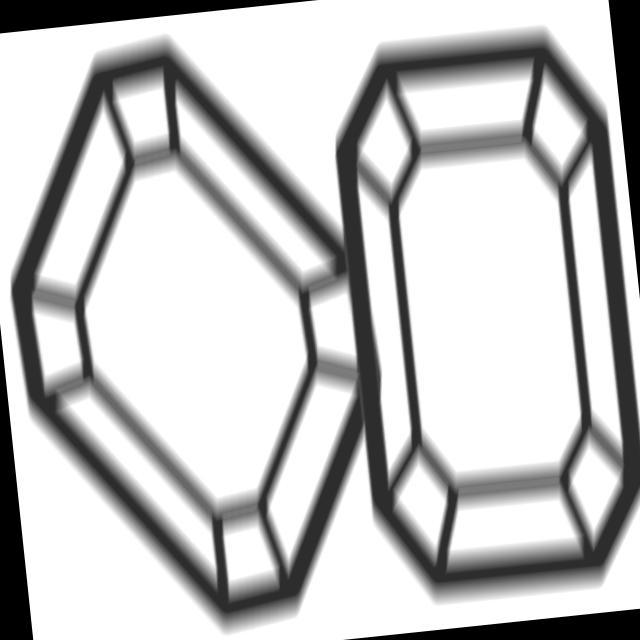emerald: (1, 8, 409, 640), (308, 14, 640, 615)
